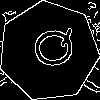Q: (23, 26, 77, 71)
